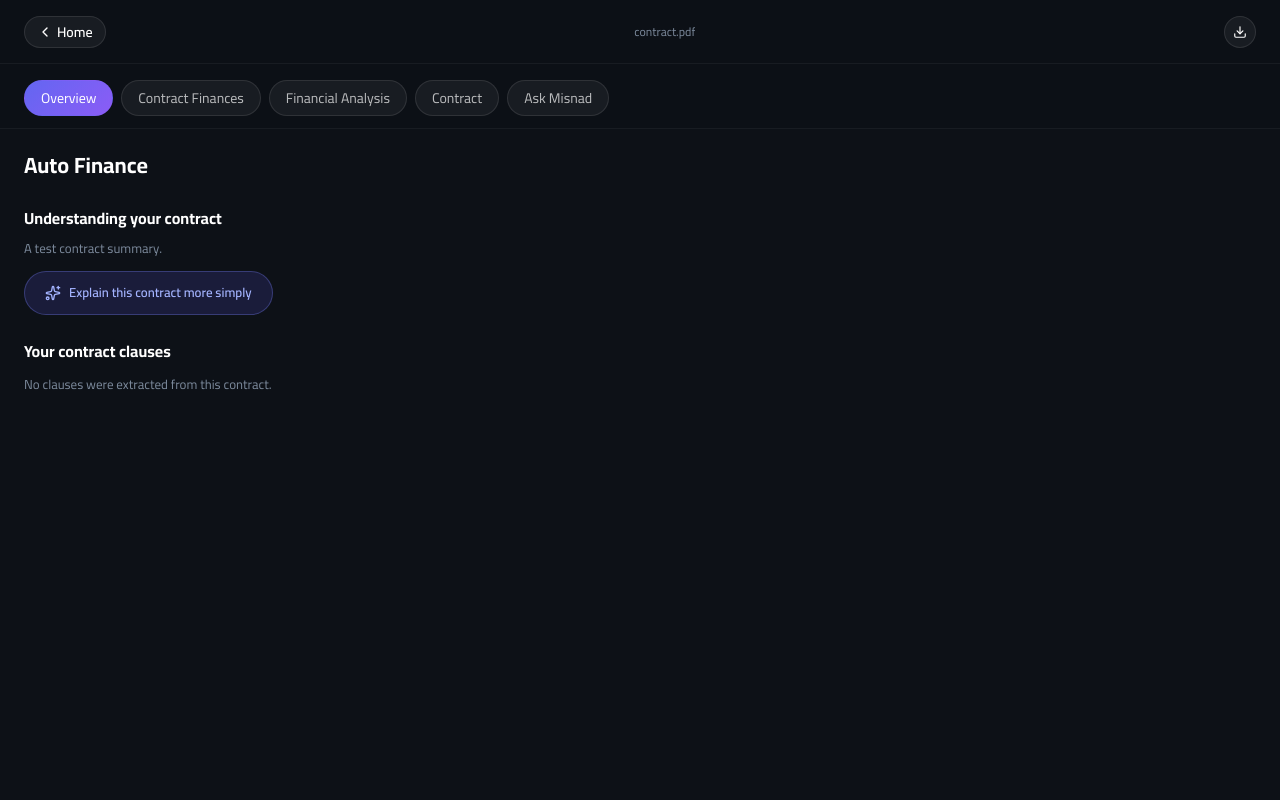
Test: Report Download dialog integration with ResultsScreen › navigating to Personalized Analysis from the dialog actually switches the active tab
Click the button with test id "button-open-report-dialog": point(1240, 32) [1224,16,1256,48]
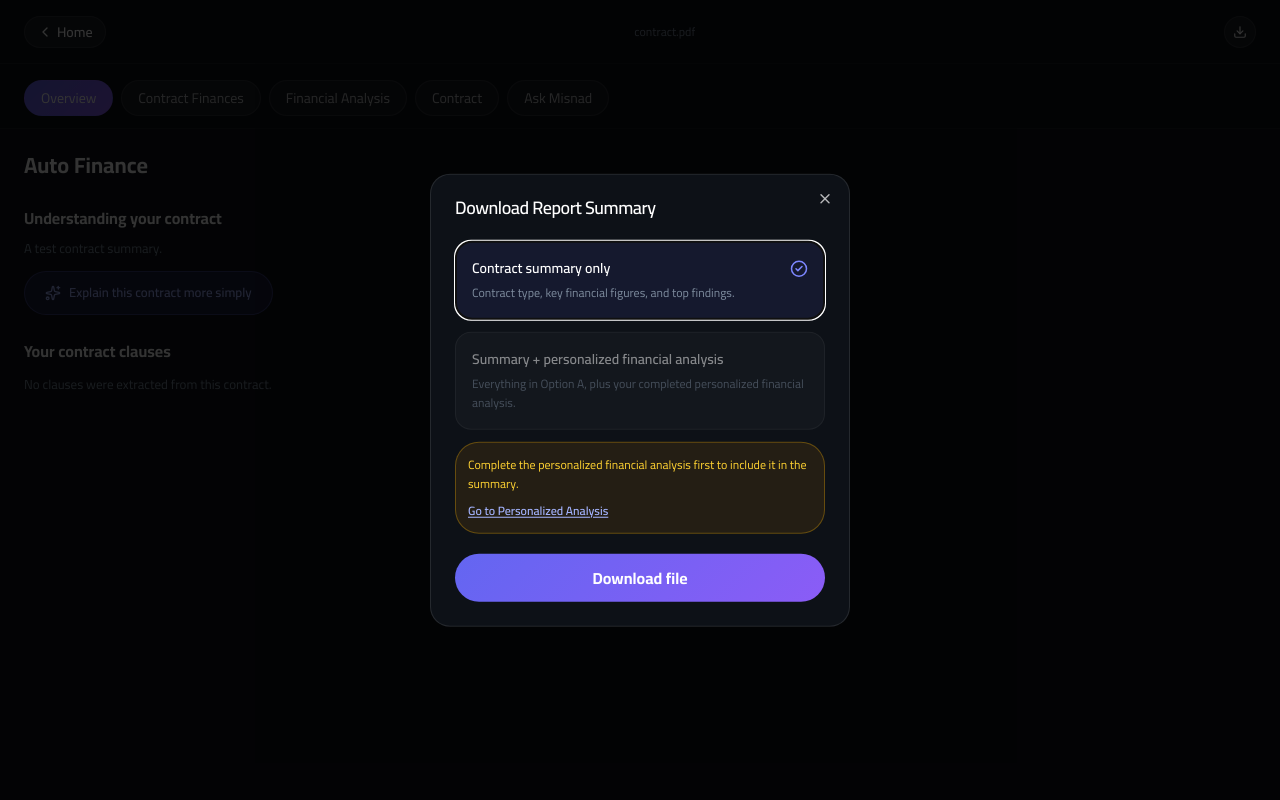
Click the button with test id "button-go-to-personalized-analysis": point(538, 510) [468,501,608,519]
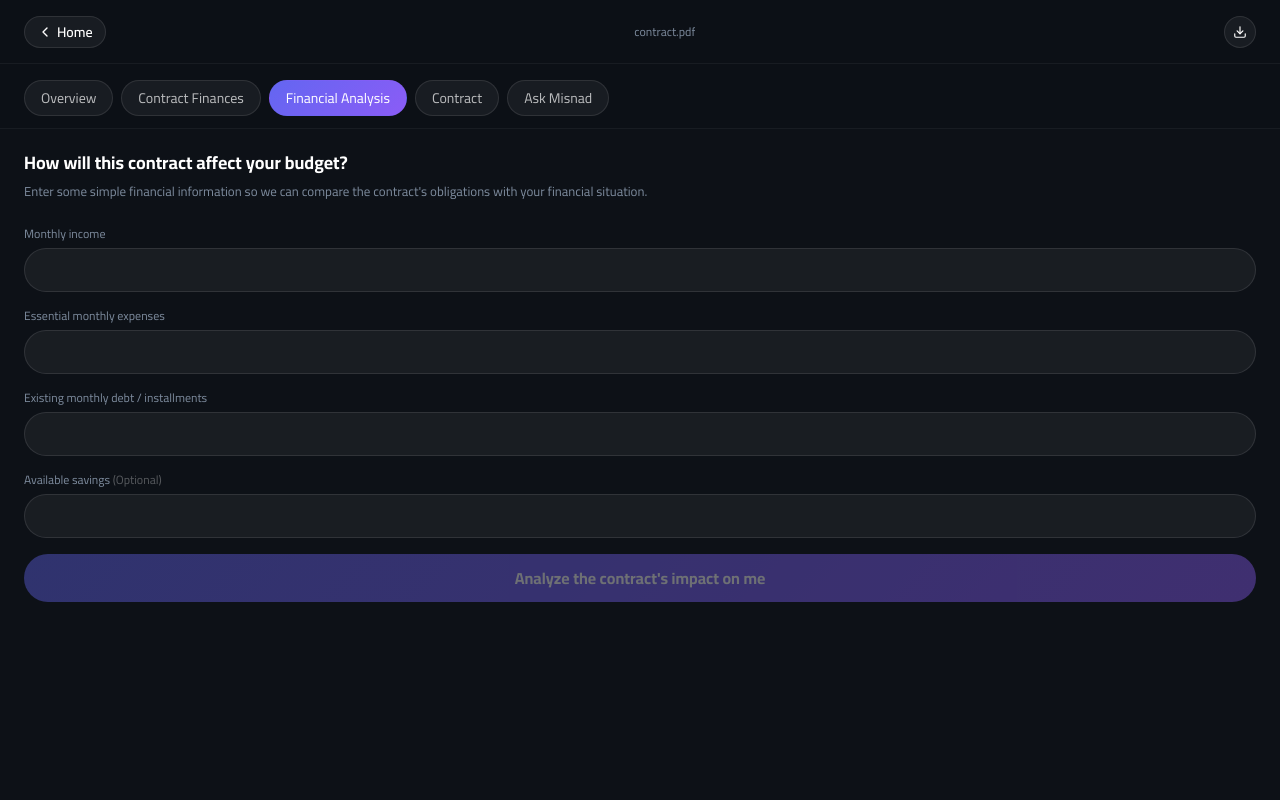
Now the form with test id "budget-impact-form" is shown, box [24,226,1256,602]
